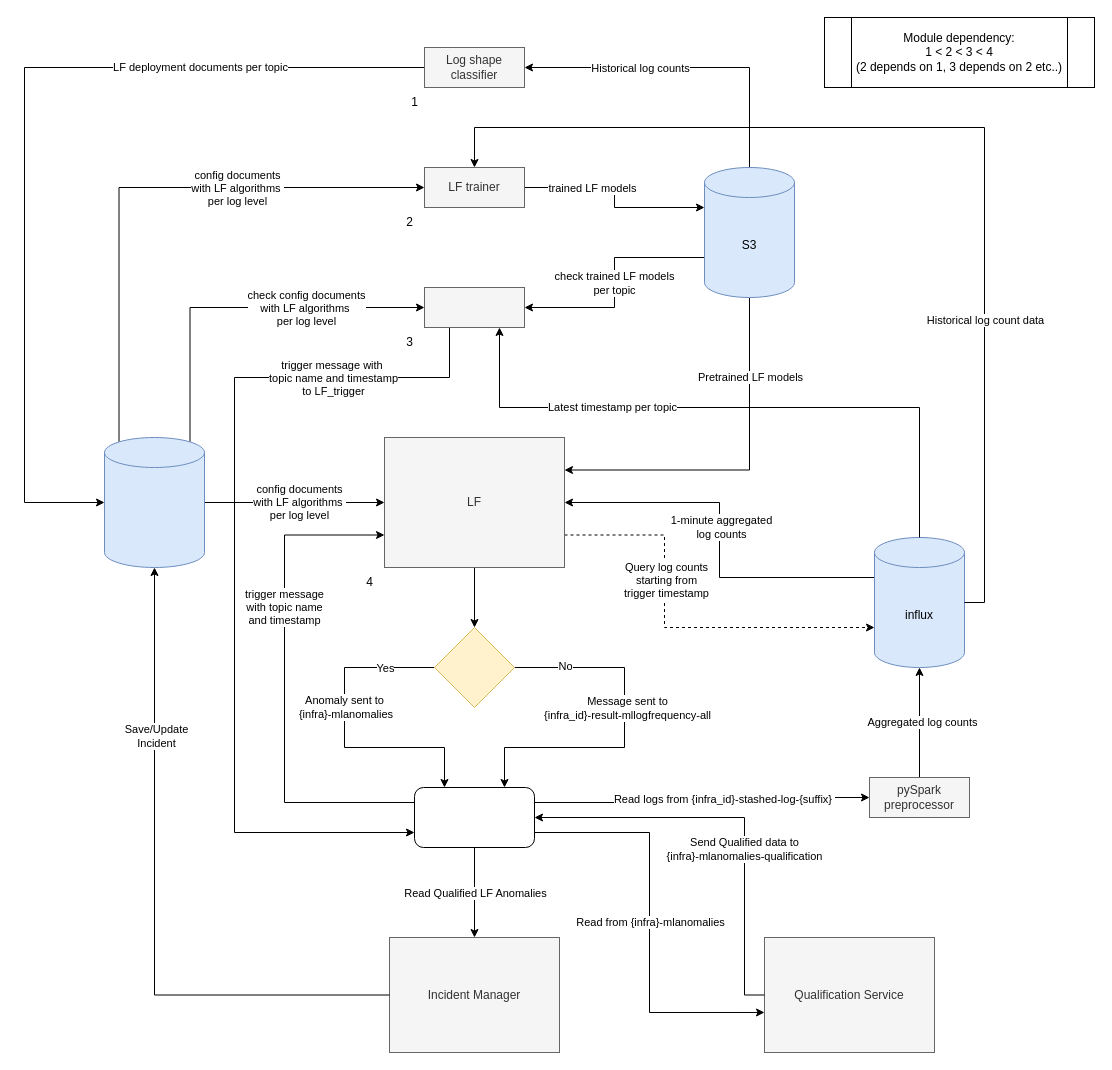
This 1112x1070 diagram has some shape labels left out. Each missing label, with the centre of its shape:
isAnomaly ?: (474,667)
Kafka: (474,817)
Mongo: (154,502)
Scheduler: (474,307)
